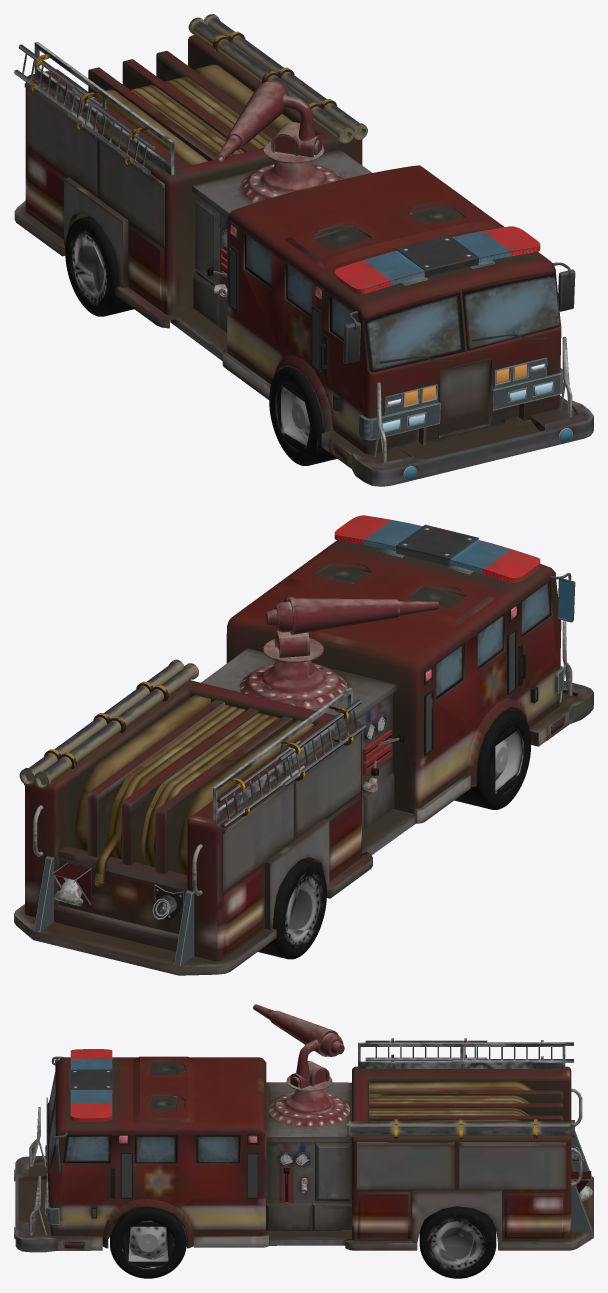
Rendered from fire.glb.
3 renders of one model, top to bottom at view 1: azimuth 30°, elevation 25°; view 2: azimuth 150°, elevation 25°; view 3: azimuth 270°, elevation 25°, orthographic. The views are drawn at different scales.
Parts seen in each view (by area): view 1: kit0, kit1, far; view 2: kit0, kit1, far; view 3: kit0, far, kit1.
Part boxes in pixels (x1,y1,x2,y2): kit0: (14, 14, 593, 486); kit1: (14, 17, 593, 486); far: (24, 20, 593, 469); kit0: (14, 515, 593, 975); kit1: (15, 515, 593, 975); far: (21, 538, 593, 966); kit0: (14, 1004, 593, 1278); far: (15, 1032, 592, 1268); kit1: (14, 1012, 593, 1275).
Size of the model in its own units: 3.26 by 3.67 by 9.4.
Materials: 1 (1 with a texture image).
